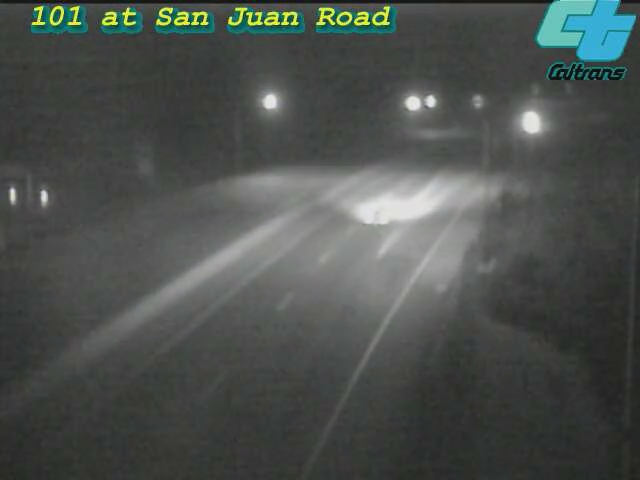vehicle: (341, 171, 421, 251), (505, 97, 555, 147)
